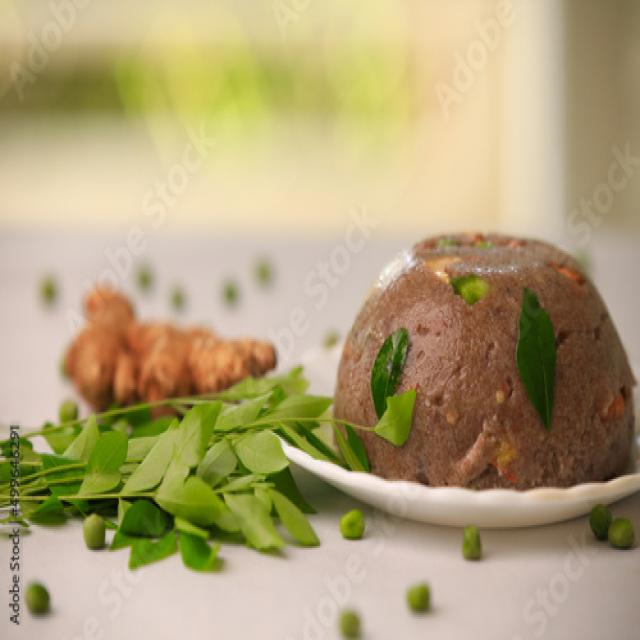UPMA: (334, 234, 634, 489)
